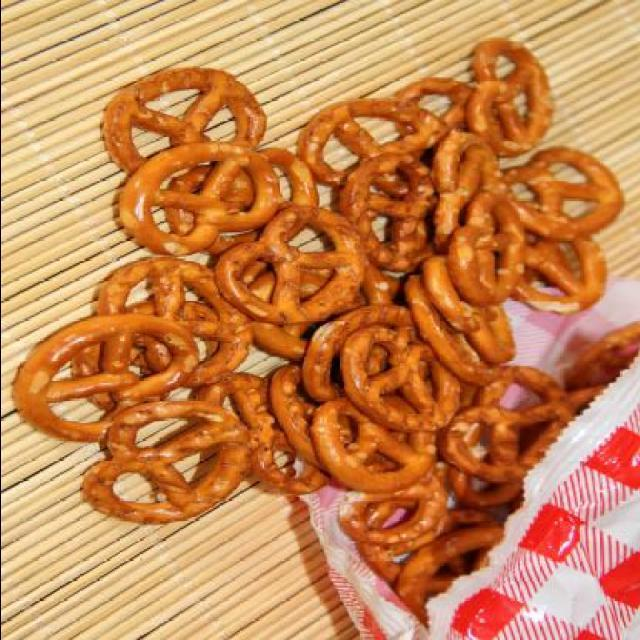Salatini packaged: (16, 40, 620, 528)
